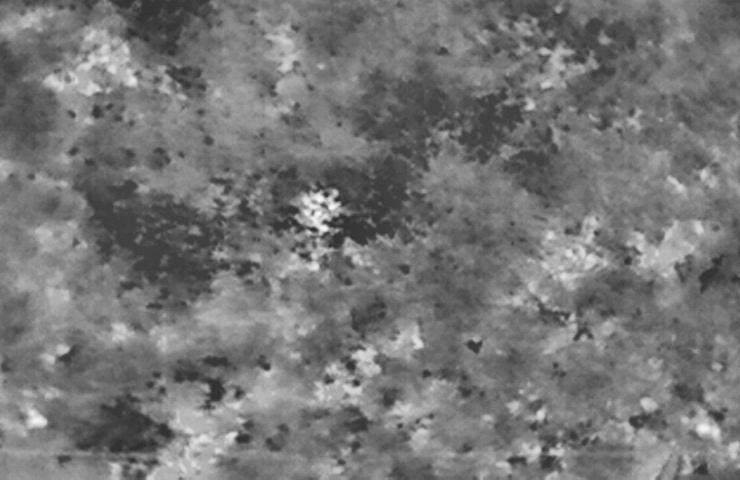landmines: (298, 187, 356, 243)
